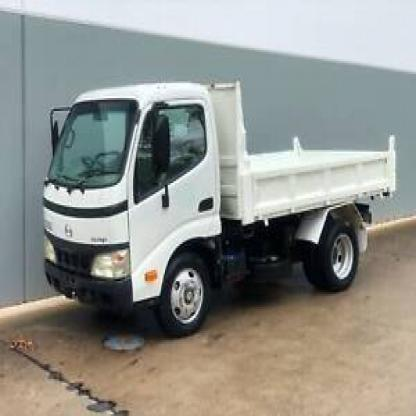dump_truck: (38, 67, 402, 340)
